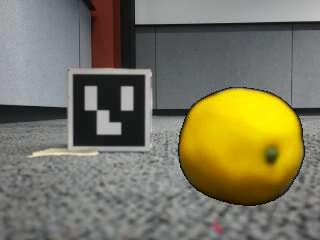lemon: (181, 87, 305, 205)
